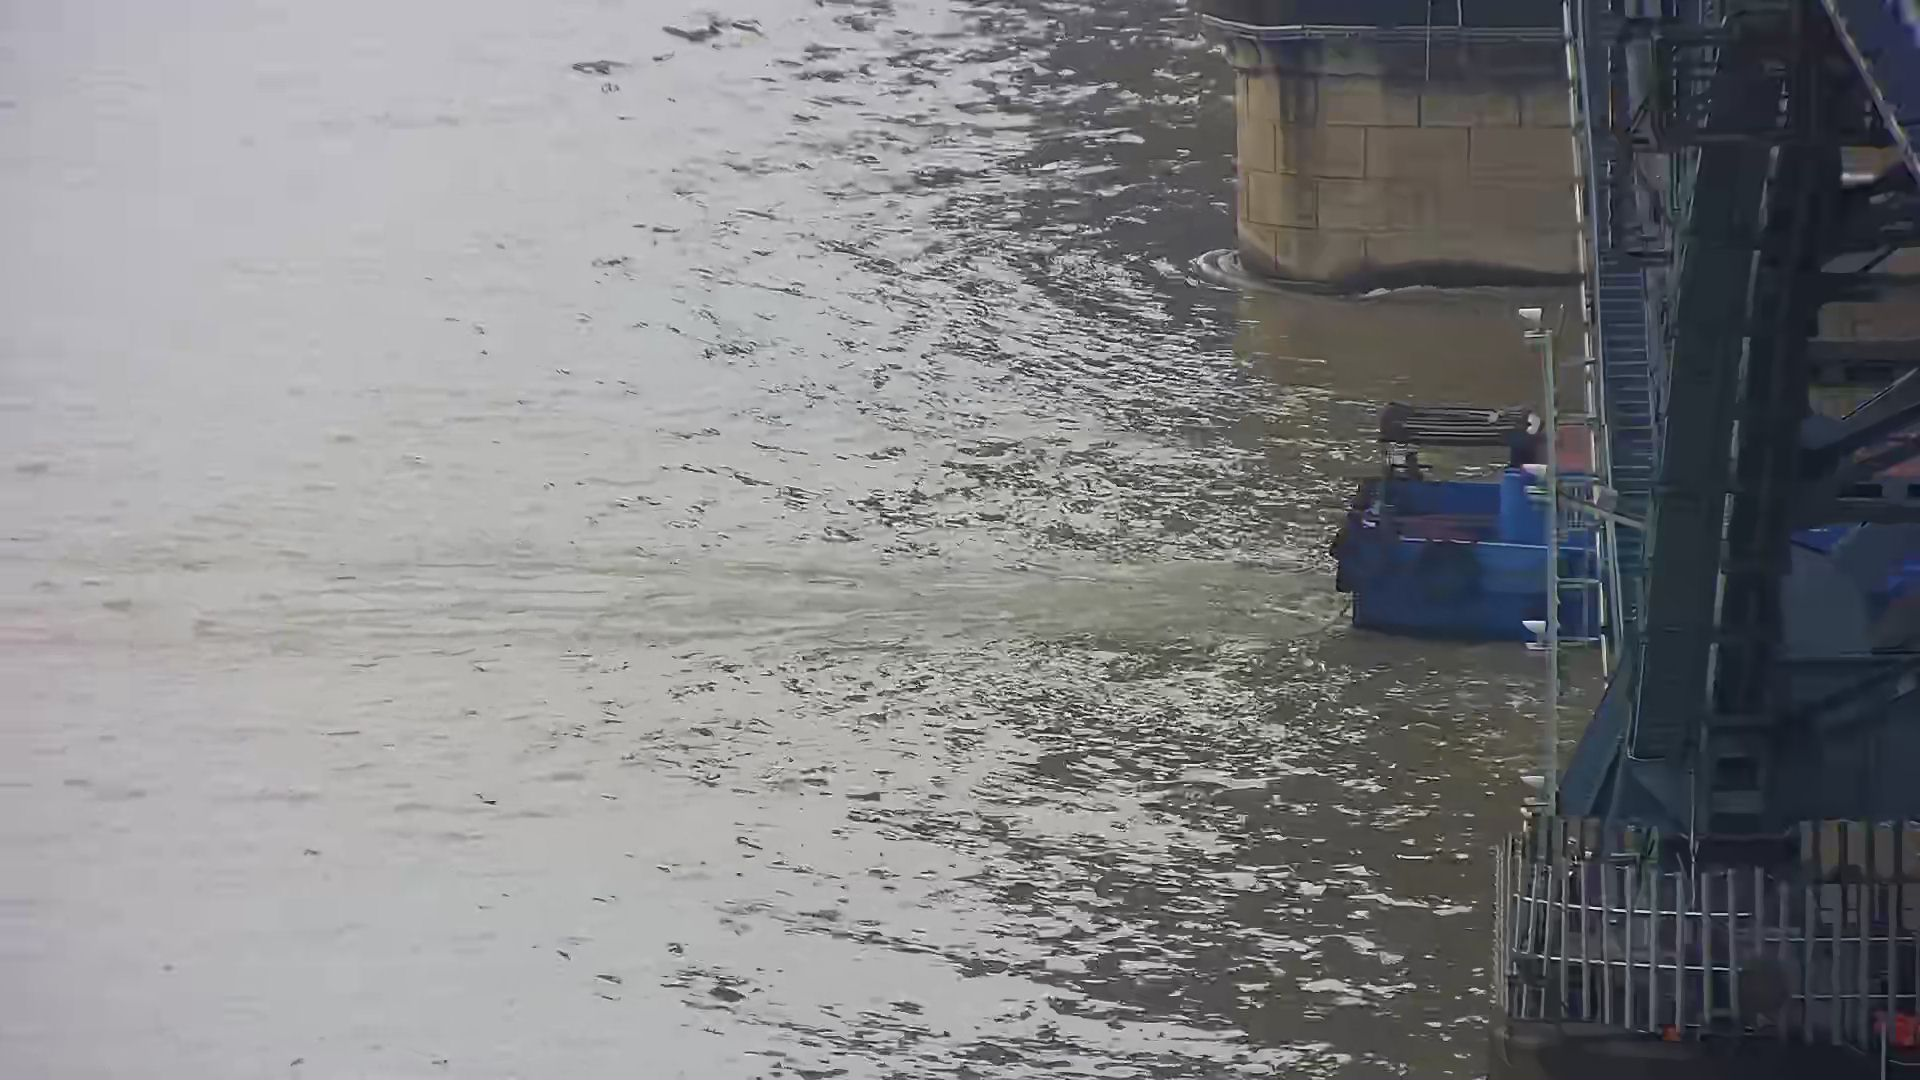boat: (1323, 320, 1626, 651)
bridge: (1451, 7, 1920, 1076), (1180, 4, 1609, 290)
